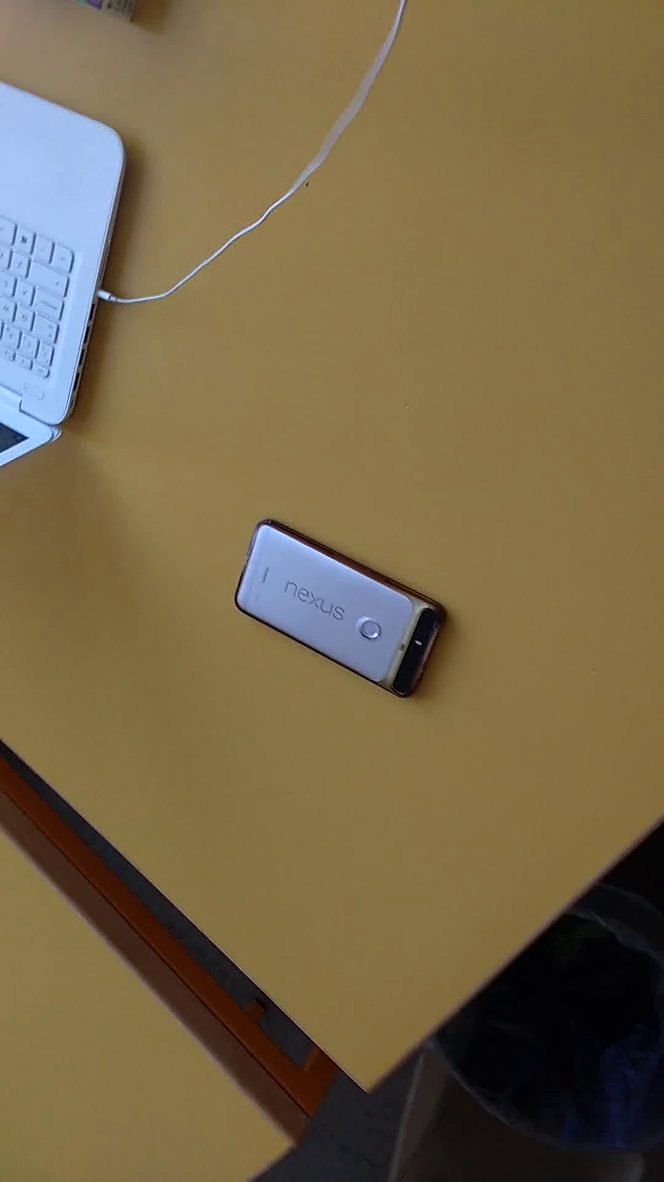phone: (223, 508, 474, 716)
